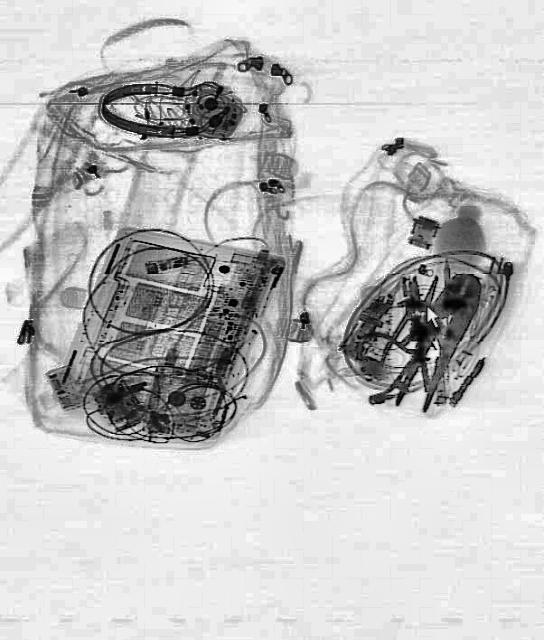Pliers: (386, 263, 490, 421), (351, 318, 437, 400), (379, 272, 448, 370)
